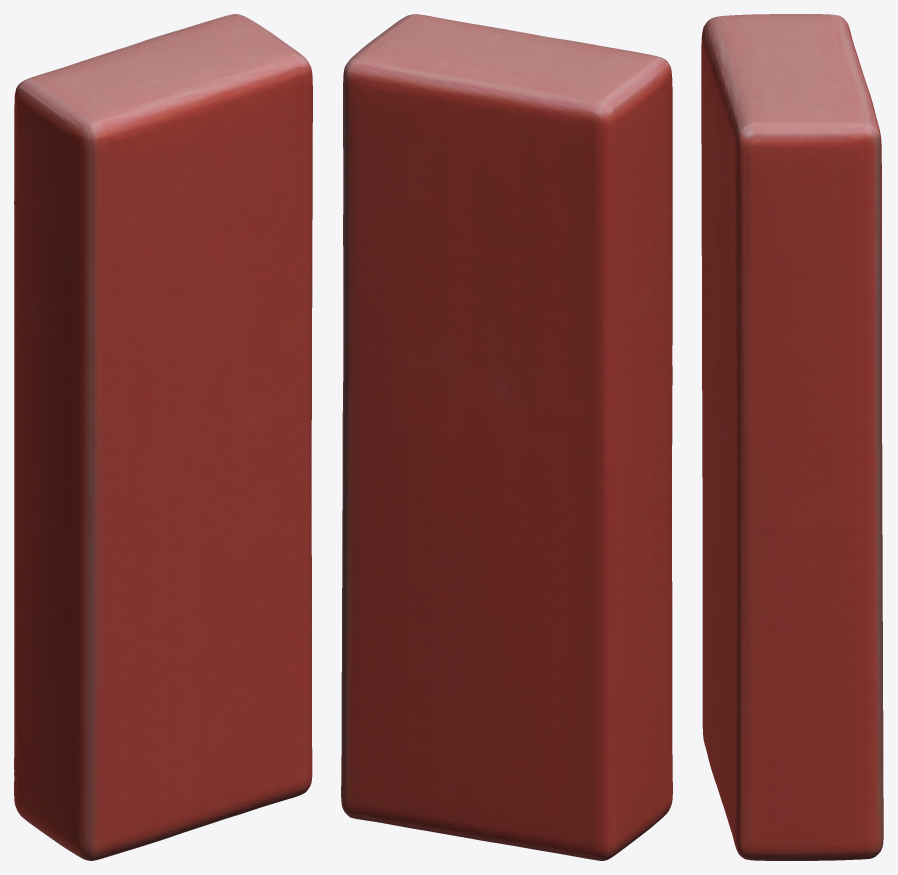
The model's file is set3_obj3.glb.
The picture shows the model from 3 angles, left to right: view 1: azimuth 30°, elevation 25°; view 2: azimuth 150°, elevation 25°; view 3: azimuth 270°, elevation 25°; orthographic projection. The views are drawn at different scales.
Parts seen in each view (by area): view 1: world; view 2: world; view 3: world.
Part boxes in pixels (x1,y1,x2,y2): world: (14,14,312,860); world: (341,14,672,860); world: (701,14,883,860).
Bounding box in the file's own units: 0.3578 × 0.9997 × 0.2229.
